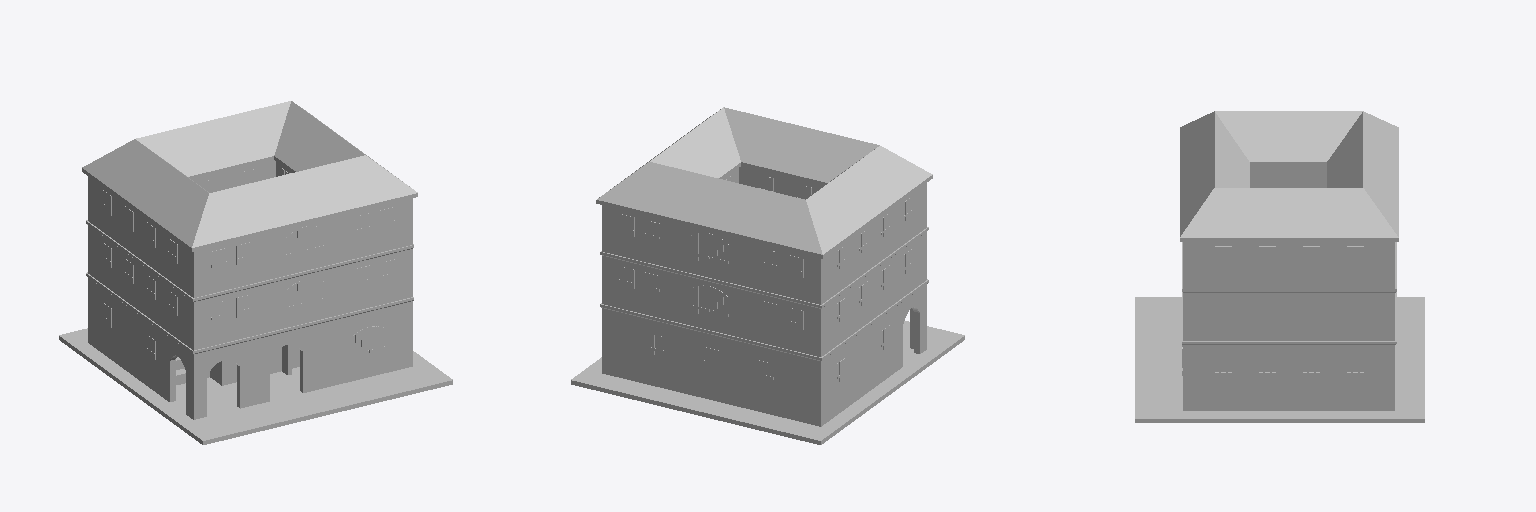
File: insula.obj
3 views of the same model, side by side, from view 1: azimuth 30°, elevation 25°; view 2: azimuth 150°, elevation 25°; view 3: azimuth 270°, elevation 25° (orthographic).
Visible parts, largest first — view 1: Insula_Insula.003; view 2: Insula_Insula.003; view 3: Insula_Insula.003.
Part boxes in pixels (x1,y1,x2,y2): Insula_Insula.003: (59, 101, 452, 444); Insula_Insula.003: (571, 107, 964, 444); Insula_Insula.003: (1135, 111, 1424, 422).
Size of the model in its own units: 6 by 4.86 by 6.